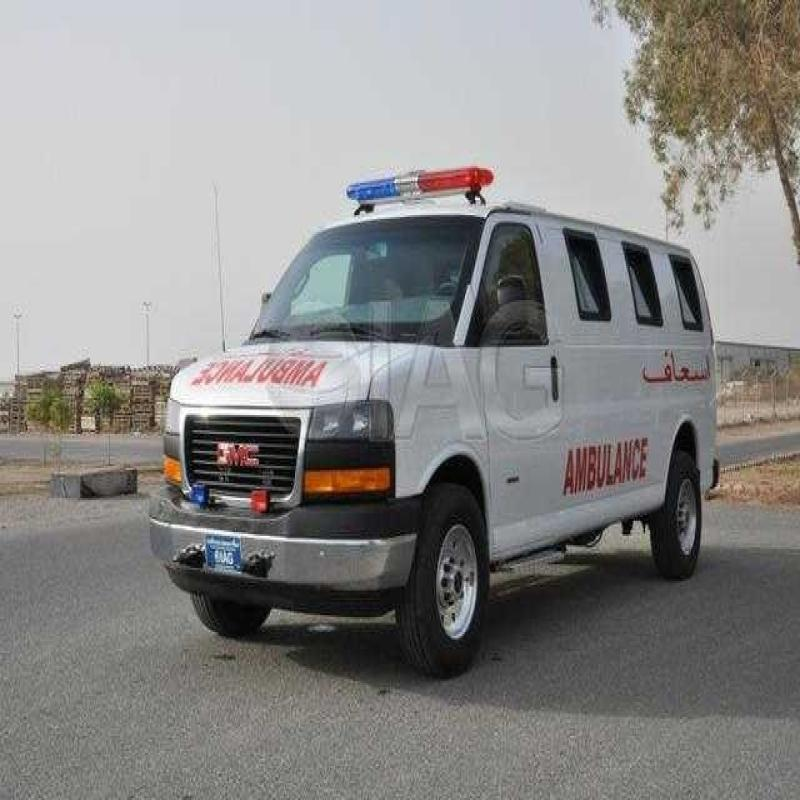bike: (336, 147, 498, 218)
